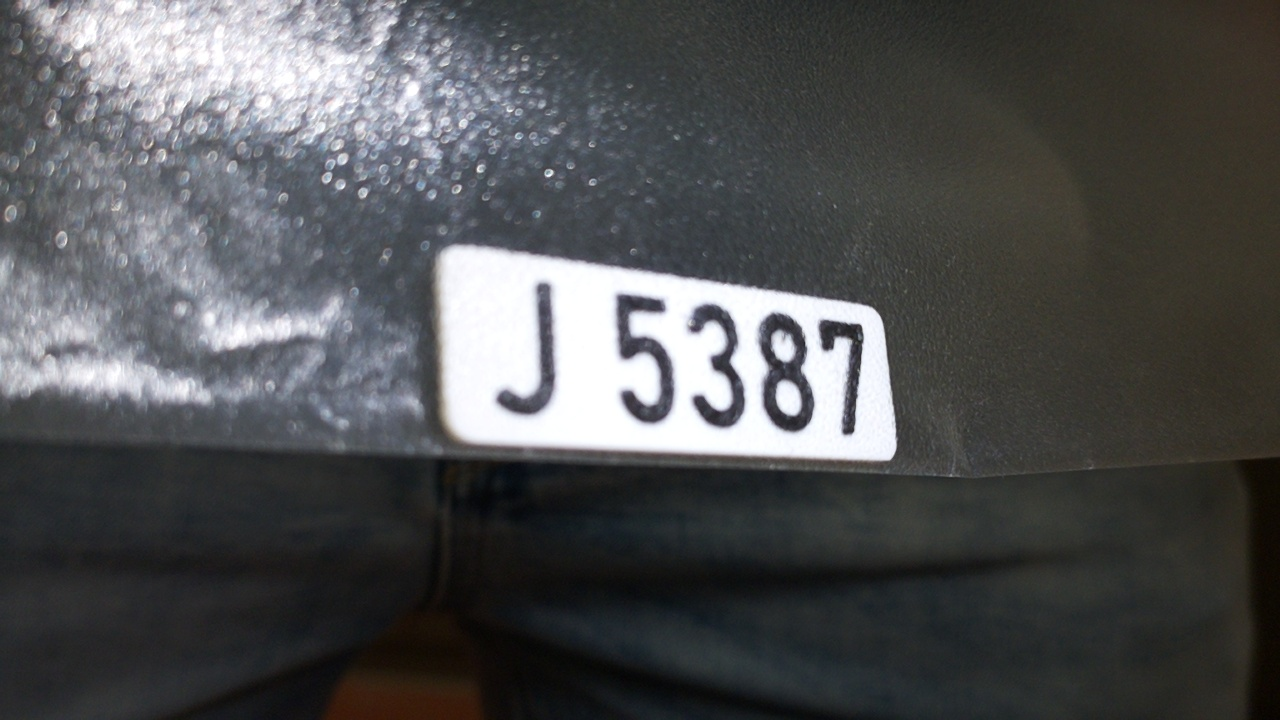license_plate: (428, 239, 906, 465)
